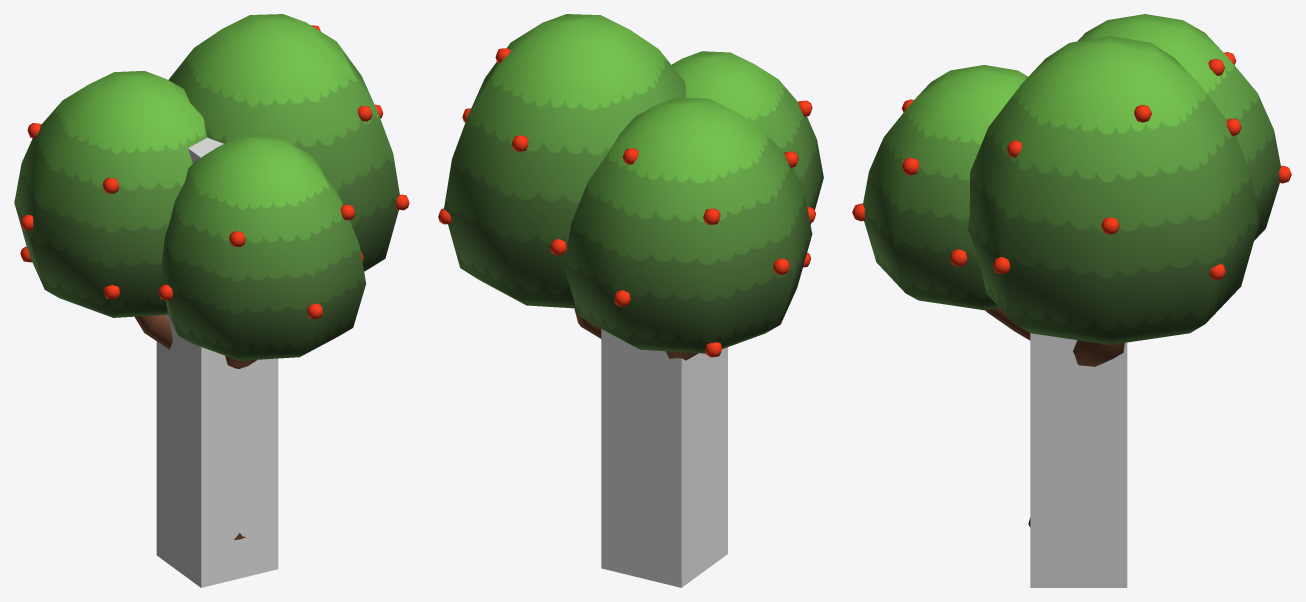
The model's file is Pohon2.fbx.
3 views of the same model, side by side, from view 1: azimuth 30°, elevation 25°; view 2: azimuth 150°, elevation 25°; view 3: azimuth 270°, elevation 25° (orthographic). The views are drawn at different scales.
Parts seen in each view (by area): view 1: Pohon_LOD0, Coliider, Buah_LOD0; view 2: Pohon_LOD0, Coliider, Buah_LOD0; view 3: Pohon_LOD0, Coliider, Buah_LOD0.
Boxes of the visible parts, x1=… form: Pohon_LOD0: x1=14, y1=14, x2=399, y2=539; Coliider: x1=156, y1=138, x2=278, y2=587; Buah_LOD0: x1=20, y1=25, x2=409, y2=319; Pohon_LOD0: x1=444, y1=14, x2=823, y2=360; Coliider: x1=601, y1=107, x2=727, y2=587; Buah_LOD0: x1=438, y1=48, x2=815, y2=357; Pohon_LOD0: x1=863, y1=14, x2=1280, y2=526; Coliider: x1=1030, y1=333, x2=1127, y2=587; Buah_LOD0: x1=852, y1=52, x2=1291, y2=280.
Size of what is drawn, in the model's own units: 541 by 788 by 561.
